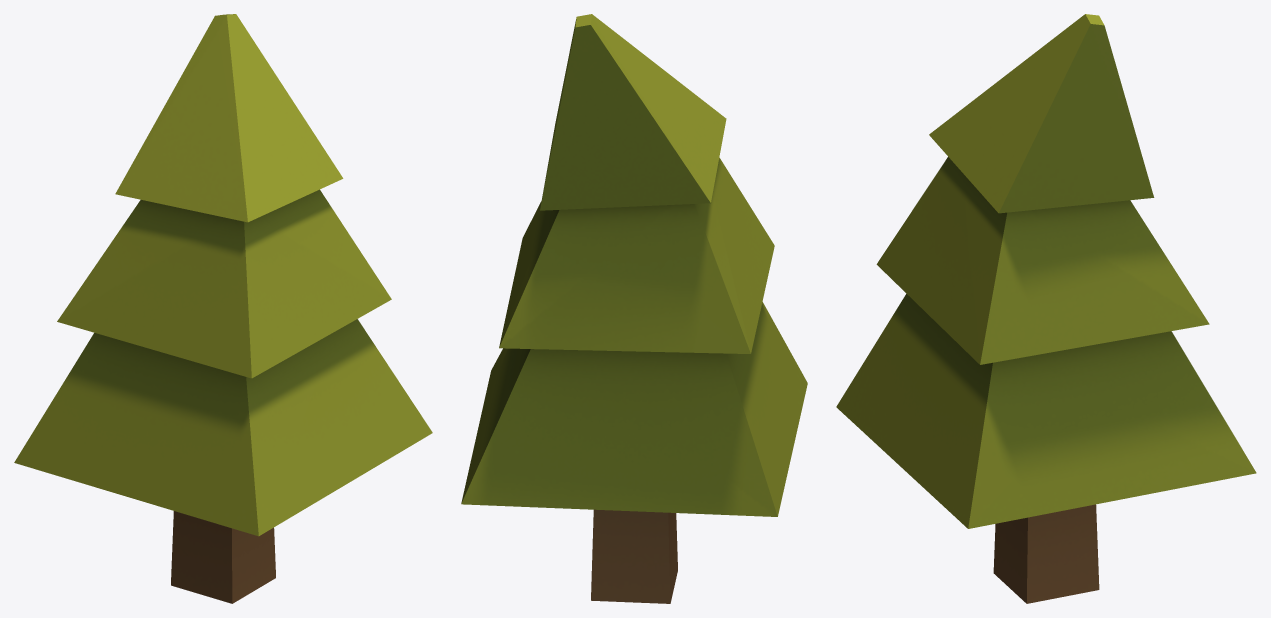
Rendered from tree.glb.
3 views of the same model, side by side, from view 1: azimuth 30°, elevation 25°; view 2: azimuth 150°, elevation 25°; view 3: azimuth 270°, elevation 25° (orthographic). The views are drawn at different scales.
Visible parts, largest first — view 1: node-0.001; view 2: node-0.001; view 3: node-0.001.
Part boxes in pixels (x1=…): node-0.001: x1=14, y1=14, x2=432, y2=603; node-0.001: x1=461, y1=14, x2=807, y2=603; node-0.001: x1=836, y1=14, x2=1256, y2=603.
Bounding box in the file's own units: 5.34 × 8.1 × 5.34.
1 material, 1 textured.
